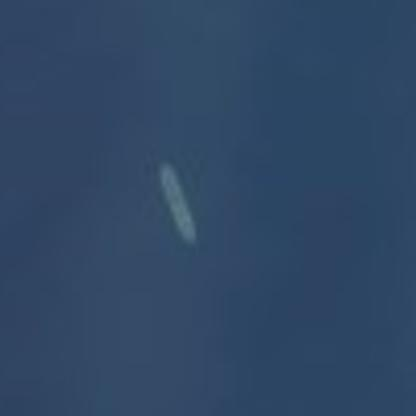ship: (150, 159, 204, 248)
